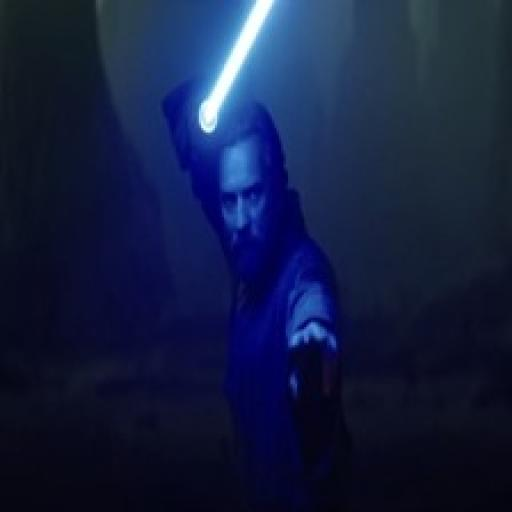human: (160, 78, 384, 512)
lightsaber: (183, 0, 274, 158)
